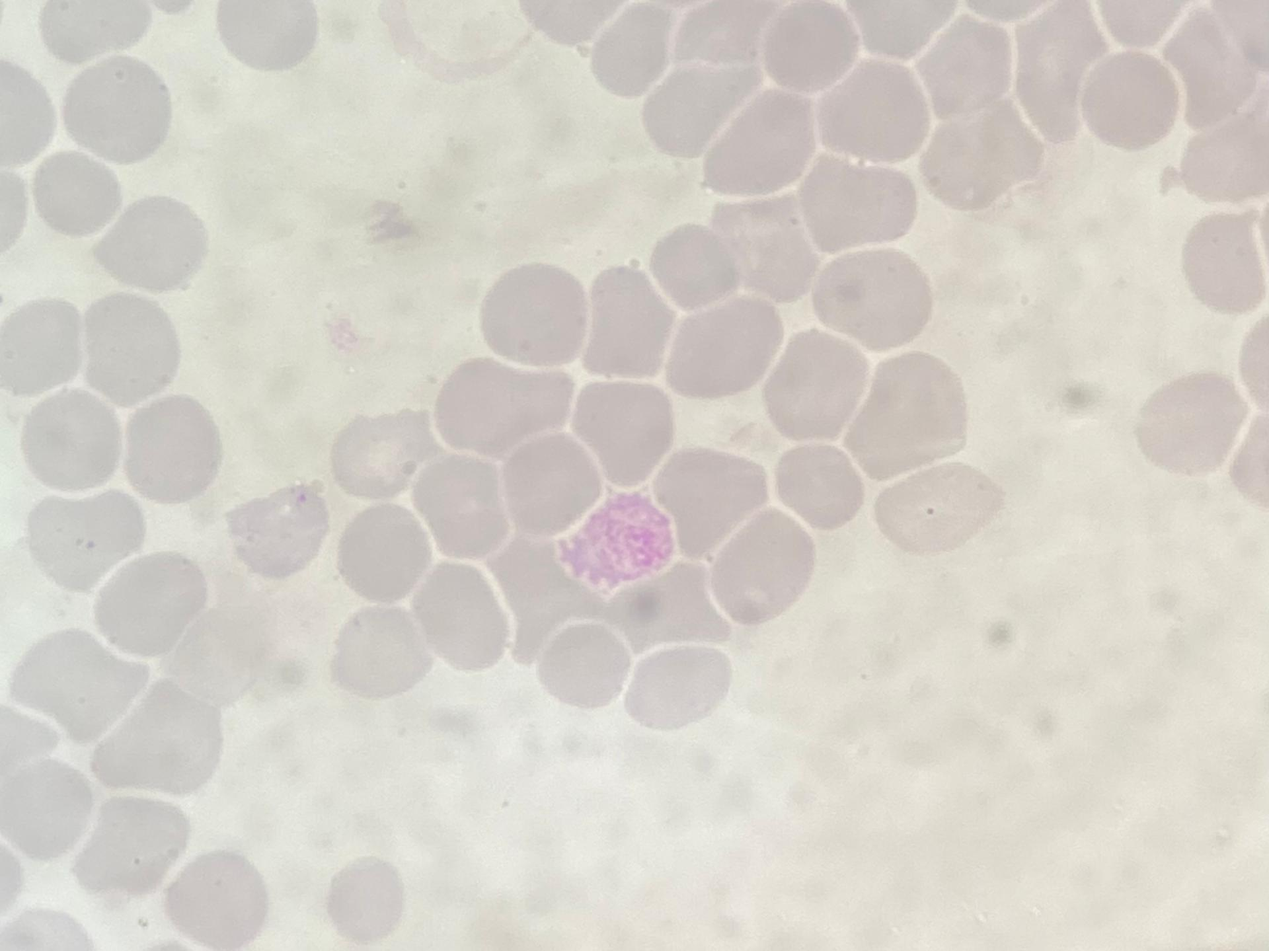Infected: (557, 488, 681, 591)
Uninfected: (843, 348, 970, 481), (9, 624, 143, 745), (90, 679, 224, 798), (431, 353, 573, 464), (155, 588, 278, 708), (484, 533, 595, 662), (919, 102, 1047, 212), (699, 86, 817, 204), (650, 443, 769, 560), (23, 484, 147, 596), (796, 151, 921, 260), (809, 247, 933, 354), (91, 547, 208, 660), (660, 292, 780, 402), (706, 508, 816, 628), (613, 552, 738, 657), (811, 61, 929, 172), (703, 196, 823, 305), (763, 328, 873, 445), (1155, 8, 1258, 131), (81, 288, 188, 406), (72, 792, 192, 897), (61, 54, 174, 165), (1012, 3, 1109, 130), (91, 193, 208, 295), (570, 375, 676, 487), (478, 263, 591, 368), (408, 557, 510, 673), (873, 463, 1003, 554), (498, 432, 606, 541), (409, 449, 514, 561), (1134, 371, 1245, 476), (638, 60, 751, 163), (19, 384, 126, 492), (121, 391, 223, 503), (912, 17, 1017, 123), (1075, 48, 1180, 151), (159, 849, 268, 948), (580, 265, 675, 378), (1, 751, 97, 861), (335, 501, 434, 603), (226, 480, 328, 579), (621, 641, 730, 731), (328, 603, 430, 698), (1173, 109, 1269, 208), (328, 407, 432, 498), (759, 4, 860, 95), (1180, 209, 1267, 313), (2, 295, 89, 397), (773, 439, 869, 531), (535, 621, 631, 713), (648, 221, 746, 311), (587, 7, 681, 98), (31, 147, 124, 237), (669, 1, 774, 75), (40, 0, 149, 64), (215, 1, 315, 69), (325, 859, 404, 944), (853, 1, 956, 61), (1, 695, 66, 788), (1096, 1, 1193, 52)
